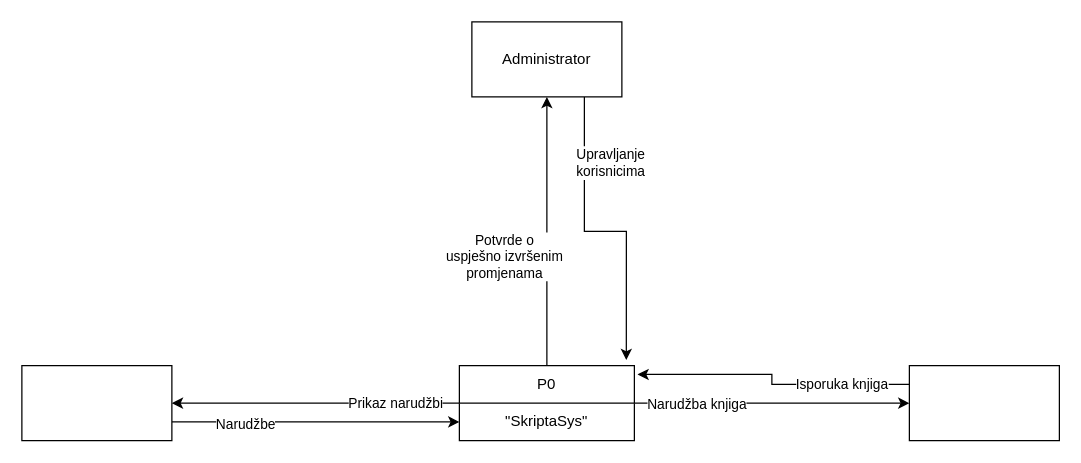
Image size: 1081x463. Some labels were removed from this diagram. The shapes that lost their labels are listed below. From the top down, each one's centre as x and y in pixels, then its label:
At point (96, 402): "Kupac".
At point (983, 402): "Dobavljač".
